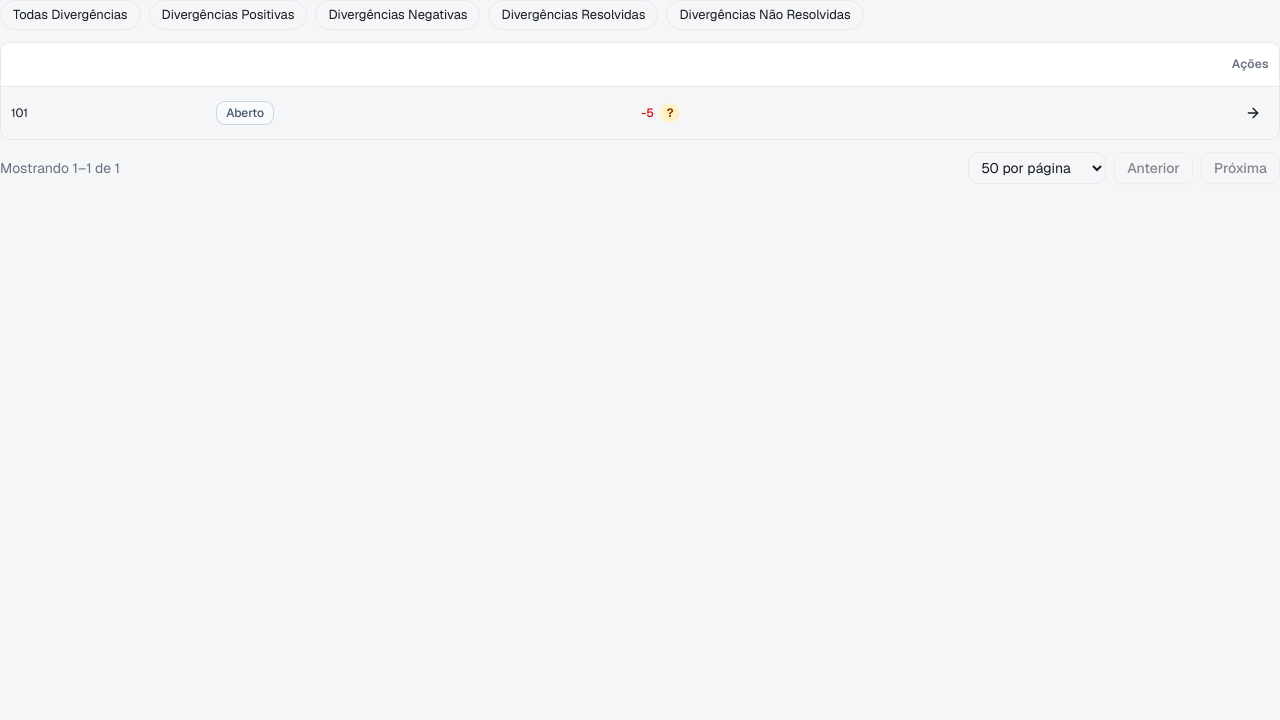
it: diálogo de justificativa › salvar com texto troca o selo de ? para ✅
Click the button named "Divergência sem justificativa".
click(670, 113)  # box [660, 103, 680, 123]
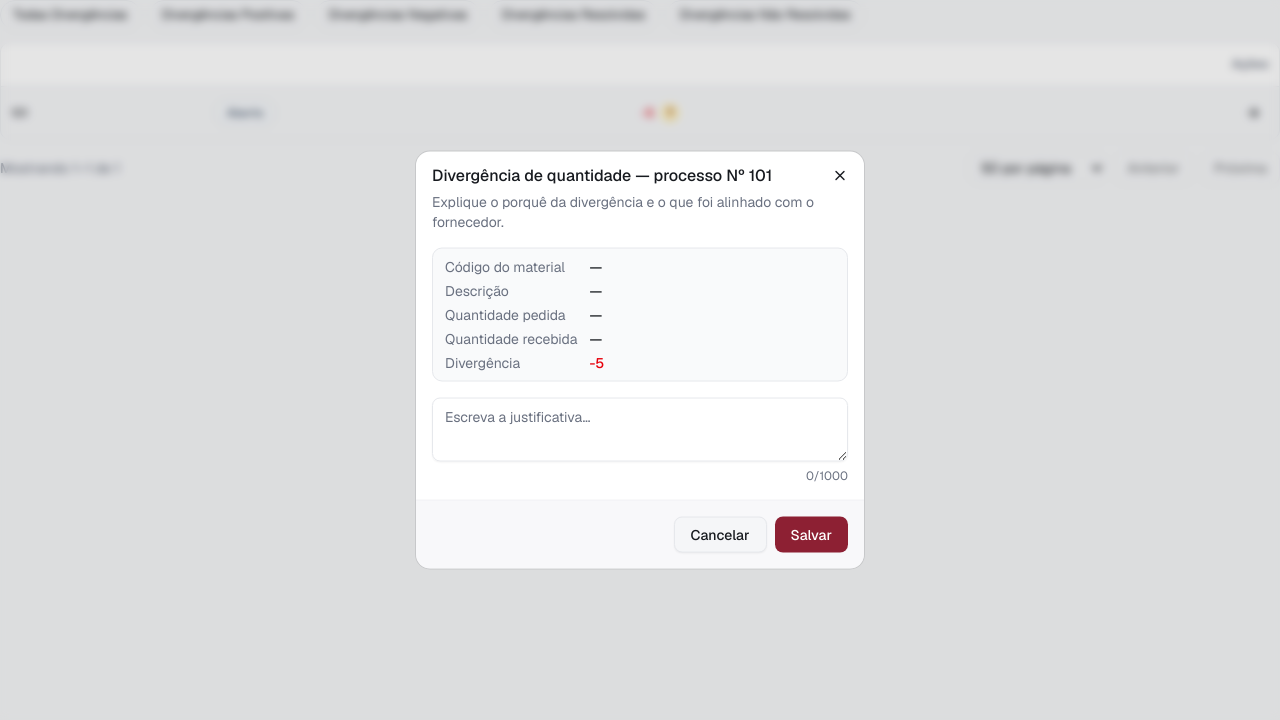
Type "Alinhado com o fornecedor." into the text box named "Justificativa da divergência".
click(640, 430); type("Alinhado com o fornecedor.")  # box [432, 398, 848, 462]
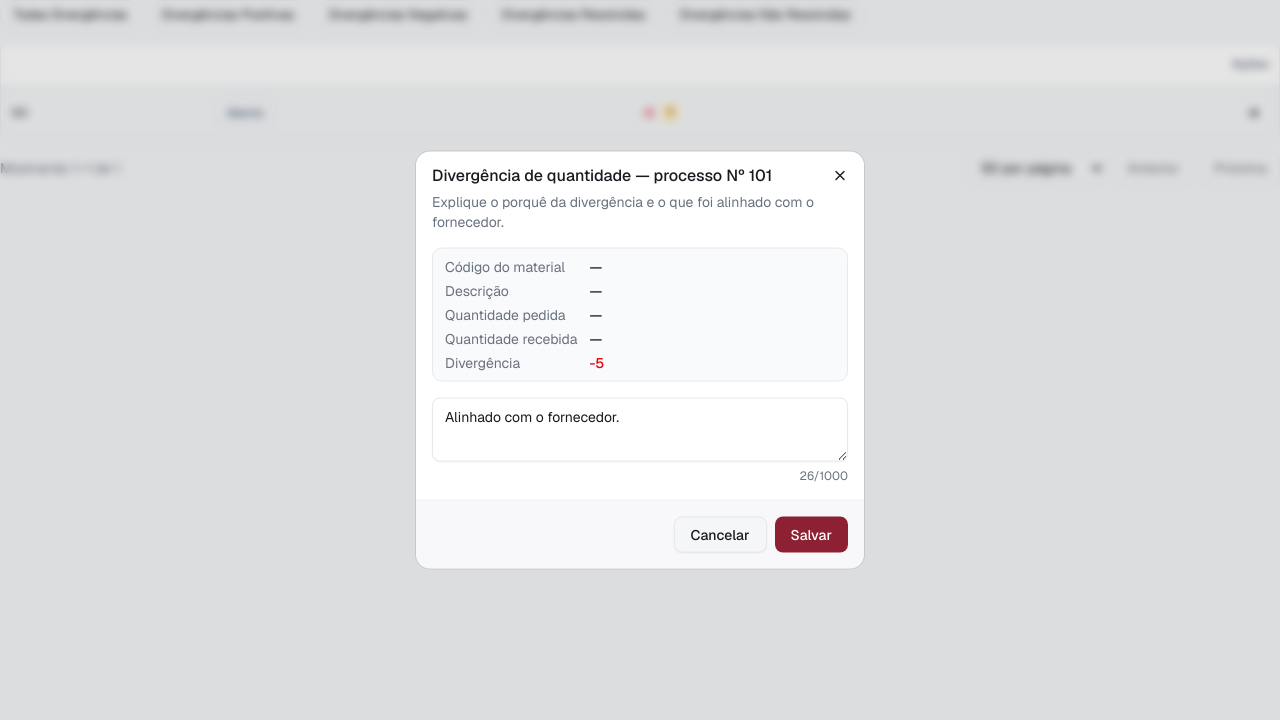
Click the button "Salvar".
click(811, 534)  # box [774, 516, 848, 552]
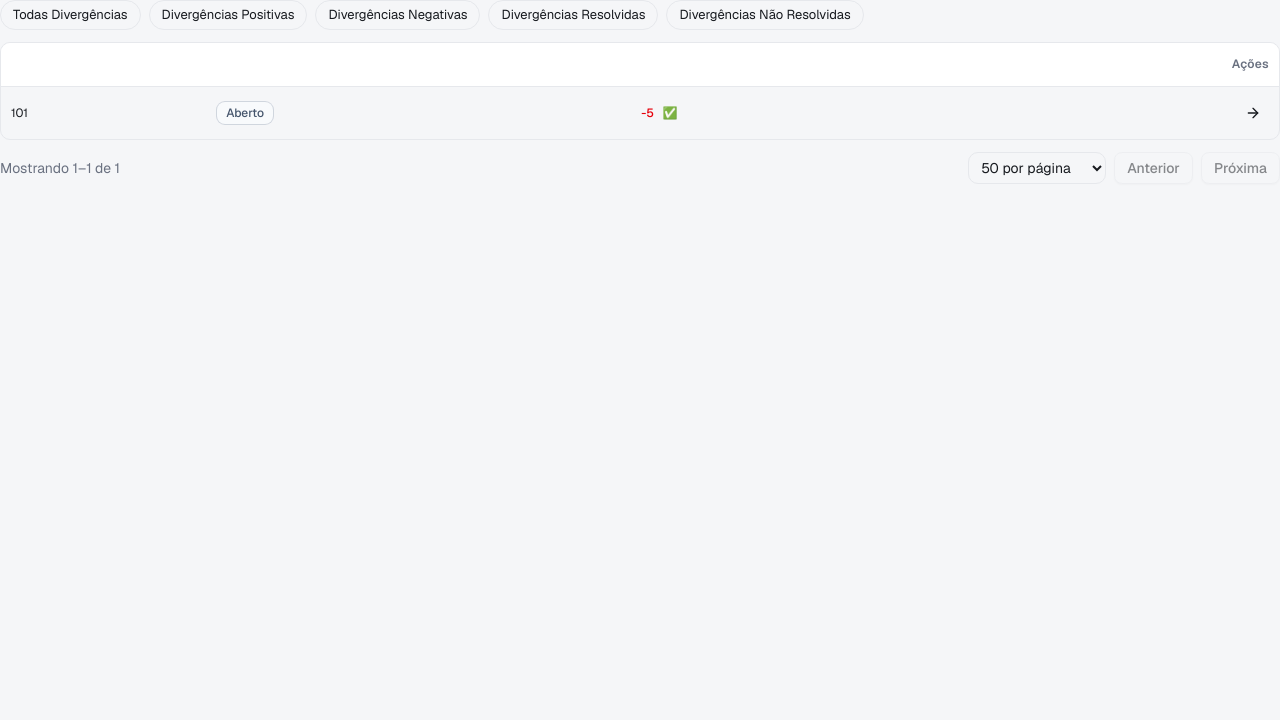
Result: the button named "Divergência justificada" is shown at [660, 103, 680, 123]
